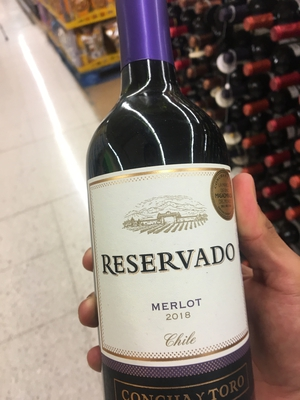reservado merlot: (84, 12, 256, 400)
